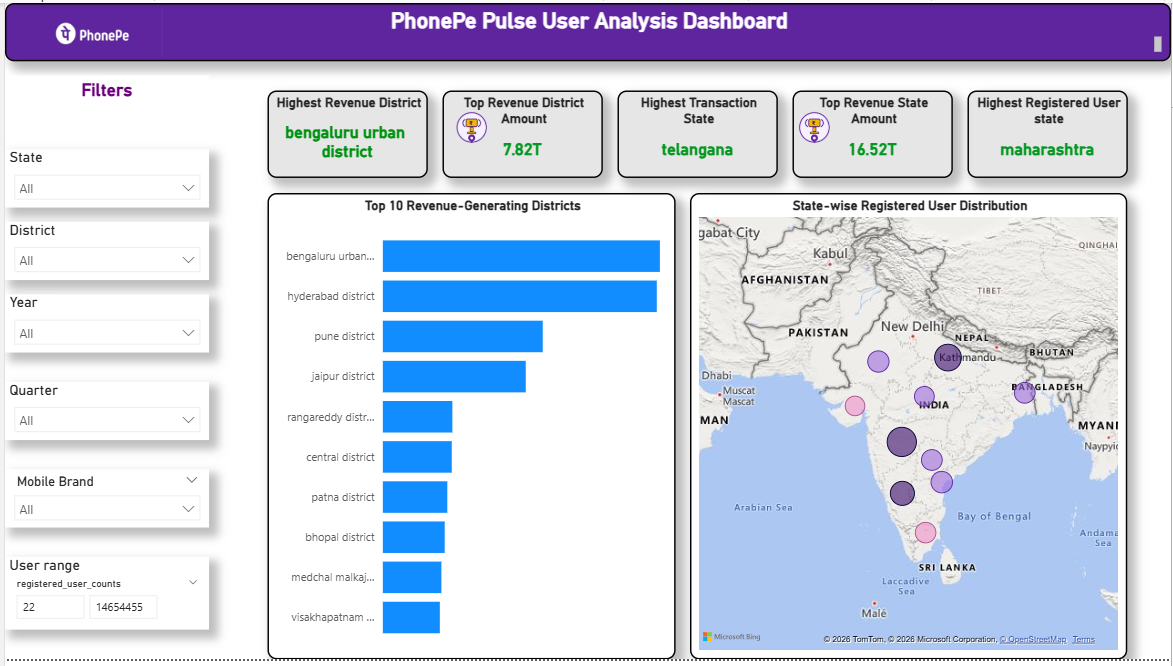

Layout of this report page (visuals, bound fields, positions):
{"tool":"powerbi","page":{"name":"User Analysis","canvas":[1280,720],"ordinal":1},"visuals":[{"type":"clusteredBarChart","title":"Top 10 Revenue-Generating Districts","fields":{"Category":["District_summary.District"],"Y":["District_summary.Total Transaction Amount"]},"box":[288,208,448,512],"z":0},{"type":"map","title":"State-wise Registered User Distribution","fields":{"Category":["District_summary.State"],"Size":["District_summary.Total Users"]},"box":[800,208,416,512],"z":1000},{"type":"slicer","title":"State","fields":{"Values":["District_summary.State"]},"box":[0,160,224,64],"z":2000},{"type":"slicer","title":"District","fields":{"Values":["District_summary.District"]},"box":[0,240,224,64],"z":3000},{"type":"slicer","title":"Year","fields":{"Values":["District_summary.Year"]},"box":[0,320,224,64],"z":4000},{"type":"slicer","fields":{"Values":["aggregated_user.Mobile Brand"]},"box":[0,512,224,64],"z":5000},{"type":"slicer","title":"User range","fields":{"Values":["District_summary.registered_user_counts"]},"box":[0,608,224,80],"z":6000},{"type":"slicer","title":"Quarter","fields":{"Values":["District_summary.Quarter"]},"box":[0,416,224,64],"z":7000},{"type":"textbox","title":"PhonePe Pulse User Analysis Dashboard","box":[0,0,1280,64],"z":8000},{"type":"textbox","box":[0,80,224,48],"z":9000},{"type":"image","box":[0,0,192,64],"z":10000},{"type":"card","title":"Highest Revenue District","fields":{"Values":["District_summary.Top Revenue District"]},"box":[288,96,176,96],"z":11000},{"type":"card","title":"Top Revenue District Amount","fields":{"Values":["District_summary.Top Revenue District Amount"]},"box":[480,96,176,96],"z":12000},{"type":"image","box":[480,112,64,48],"z":13000},{"type":"card","title":"Highest Registered User state","fields":{"Values":["District_summary.Highest Registered User State"]},"box":[1056,96,160,96],"z":14000},{"type":"card","title":"Highest Transaction State","fields":{"Values":["District_summary.Highest Transaction State"]},"box":[672,96,176,96],"z":15000},{"type":"card","title":"Top Revenue State Amount","fields":{"Values":["District_summary.Highest Revenue State Amount"]},"box":[864,96,176,96],"z":16000},{"type":"image","box":[864,112,48,48],"z":17000}]}

Visuals, with their boxes in screenshot pixels (x1, y1, x2, y2), scaled from the page's 1280x720 canvas onto the 1173x666 screenshot:
"Top 10 Revenue-Generating Districts" clusteredBarChart: l=264, t=192, r=674, b=665
"State-wise Registered User Distribution" map: l=733, t=192, r=1114, b=665
"State" slicer: l=0, t=148, r=205, b=207
"District" slicer: l=0, t=222, r=205, b=281
"Year" slicer: l=0, t=296, r=205, b=355
slicer - aggregated_user.Mobile Brand: l=0, t=474, r=205, b=533
"User range" slicer: l=0, t=562, r=205, b=636
"Quarter" slicer: l=0, t=385, r=205, b=444
"PhonePe Pulse User Analysis Dashboard" textbox: l=0, t=0, r=1172, b=59
textbox: l=0, t=74, r=205, b=118
image: l=0, t=0, r=176, b=59
"Highest Revenue District" card: l=264, t=89, r=425, b=178
"Top Revenue District Amount" card: l=440, t=89, r=601, b=178
image: l=440, t=104, r=499, b=148
"Highest Registered User state" card: l=968, t=89, r=1114, b=178
"Highest Transaction State" card: l=616, t=89, r=777, b=178
"Top Revenue State Amount" card: l=792, t=89, r=953, b=178
image: l=792, t=104, r=836, b=148
